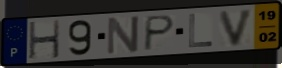9: (67, 19, 93, 57)
H: (28, 19, 62, 61)
L: (187, 13, 214, 49)
N: (105, 14, 142, 57)
P: (142, 14, 177, 53)
V: (218, 7, 257, 48)
